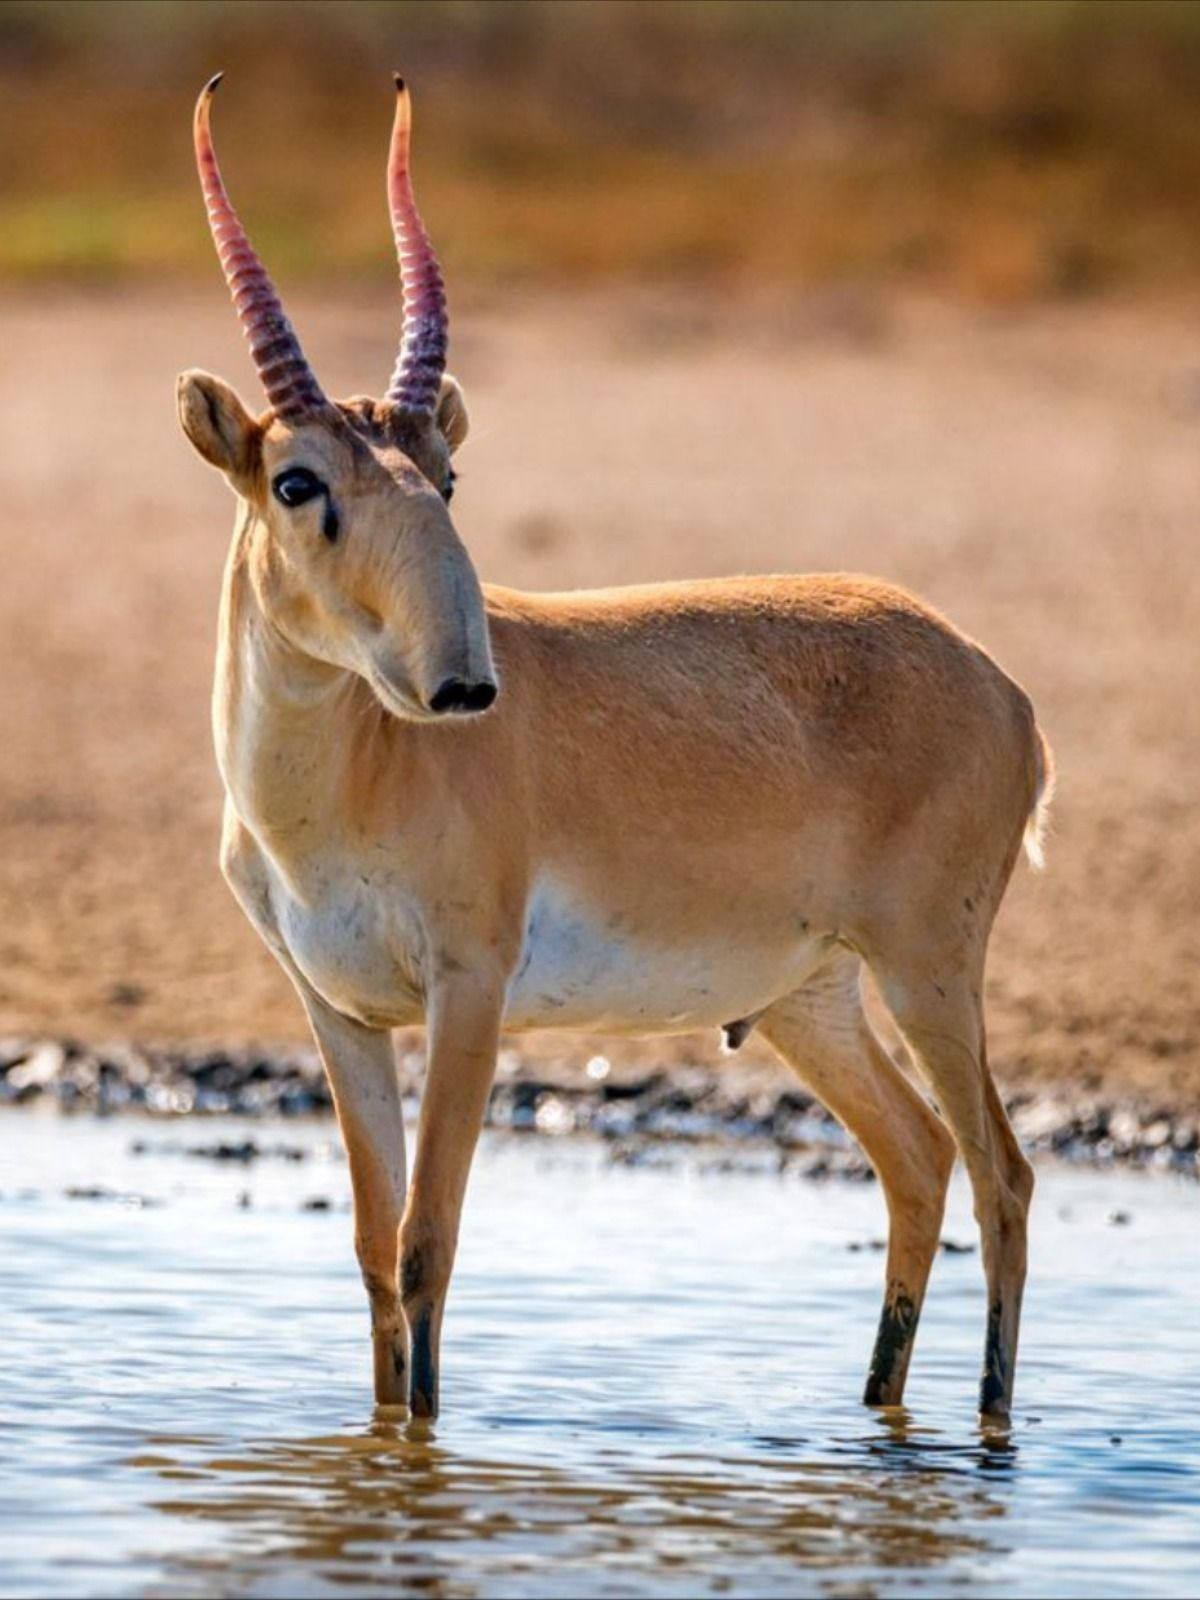saiga: (171, 71, 1051, 1502)
